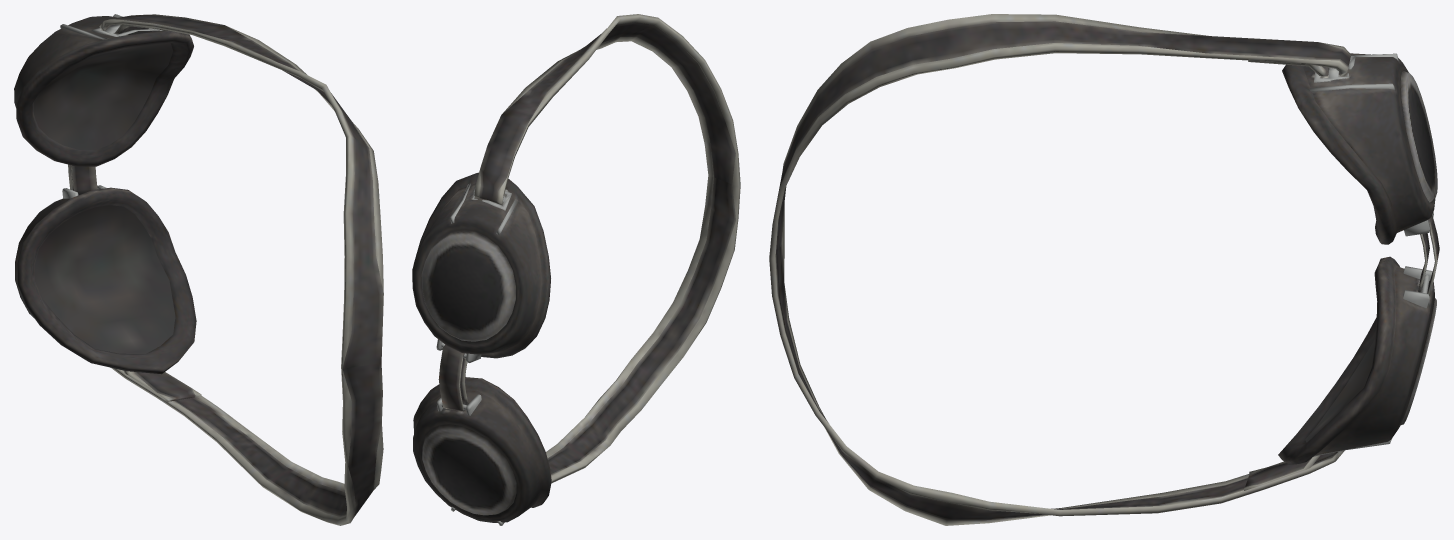
Rendered from F_WeldingGogglesOn.fbx.
The picture shows the model from 3 angles, left to right: view 1: azimuth 30°, elevation 25°; view 2: azimuth 150°, elevation 25°; view 3: azimuth 270°, elevation 25°; orthographic projection. The views are drawn at different scales.
Parts seen in each view (by area): view 1: WeldingGoggles; view 2: WeldingGoggles; view 3: WeldingGoggles.
Part boxes in pixels (box(x1,y1,x2,y2)): WeldingGoggles: box(14, 14, 383, 525); WeldingGoggles: box(412, 14, 740, 525); WeldingGoggles: box(769, 14, 1439, 525).
Bounding box in the file's own units: 0.0409 × 0.1143 × 0.1364.
